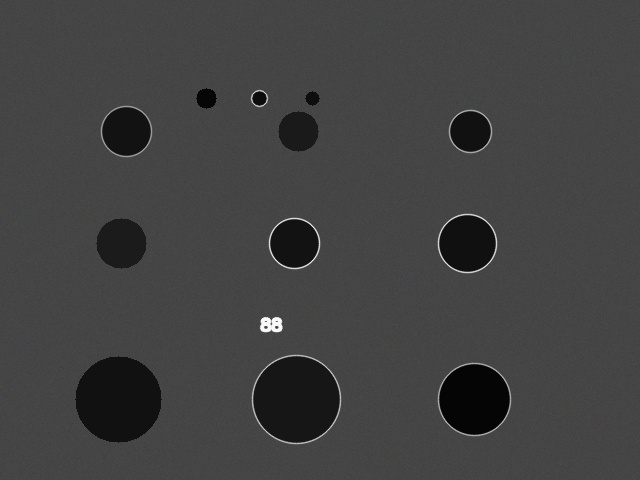hole: (252, 355, 340, 443), (75, 356, 161, 442), (438, 363, 510, 435), (438, 214, 496, 272), (101, 106, 151, 156), (96, 218, 146, 268), (269, 218, 319, 268), (449, 110, 491, 152), (278, 111, 318, 151), (196, 88, 216, 108), (251, 90, 267, 106), (305, 91, 319, 105)
